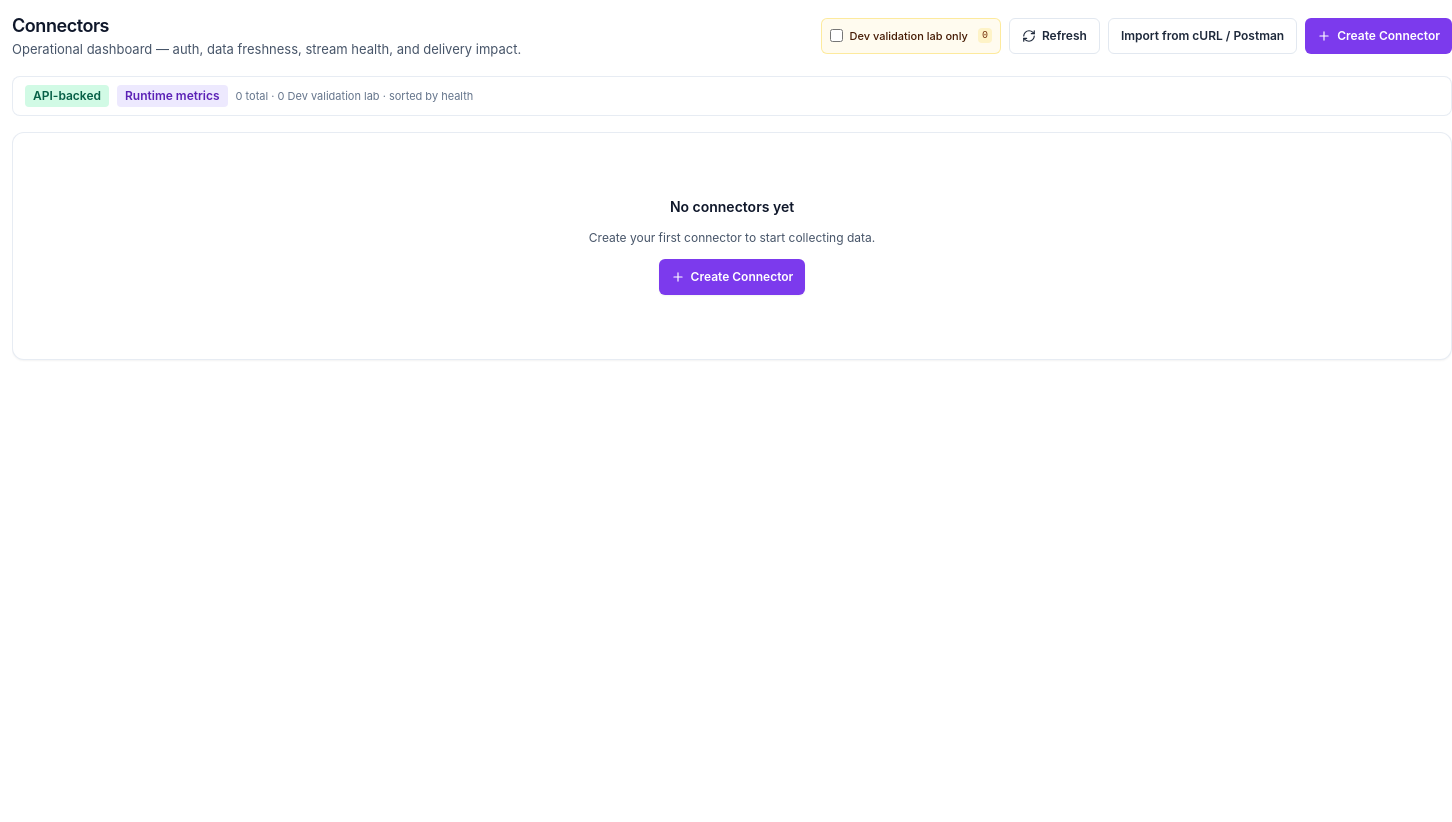
Scenario: ConnectorsOverviewPage — Dev Validation Lab visibility › shows import from cURL / Postman entry
Expected: the element with test id "connectors-empty-state" is shown, [589,198,875,294]
Click the button "Import from cURL / Postman": (1203, 36) [1108,18,1297,54]
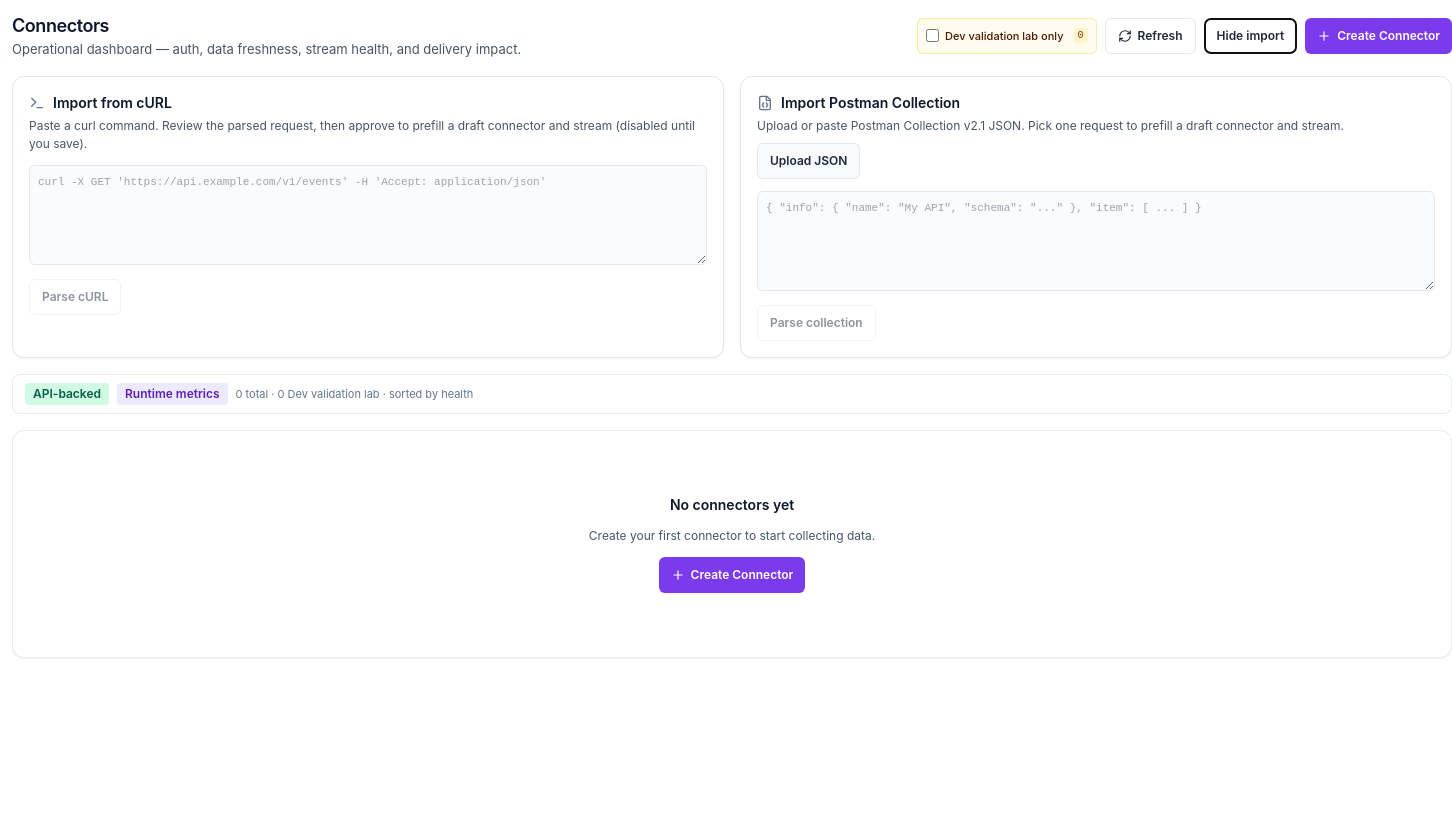
Now the button "Parse cURL" is shown, box [29,278,121,314]
Now the button "Parse collection" is shown, box [757,304,876,340]
